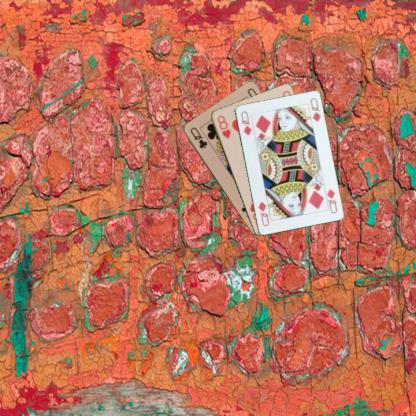8h: (214, 112, 232, 140)
Qc: (187, 124, 209, 150)
Qd: (321, 186, 338, 214), (238, 108, 252, 136)
